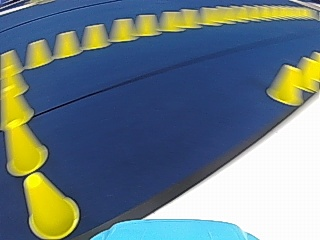cone: (22, 173, 78, 236), (0, 53, 35, 126), (3, 121, 49, 176), (266, 62, 304, 105), (295, 54, 319, 92), (25, 39, 52, 69), (0, 49, 24, 82), (54, 31, 81, 58), (82, 23, 109, 49), (109, 18, 136, 42), (135, 14, 158, 36), (161, 11, 182, 31)
